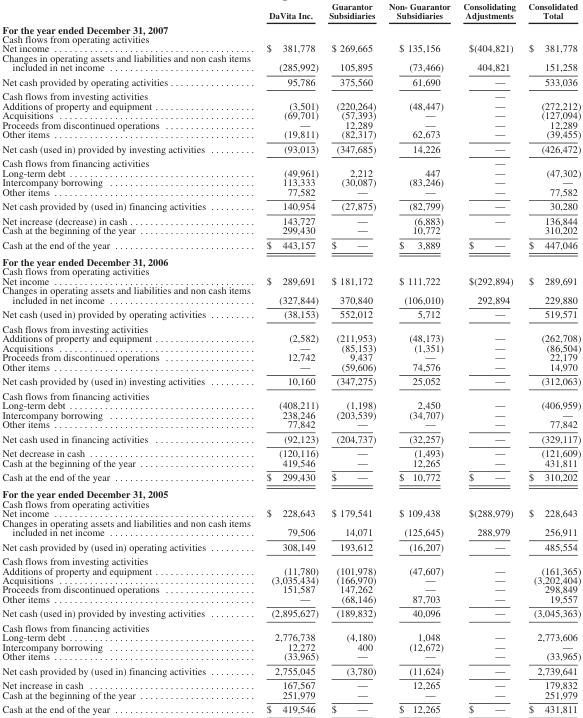table: (1, 0, 580, 714)
table column: (1, 0, 257, 714), (381, 0, 456, 714), (257, 0, 323, 714), (456, 0, 521, 714), (521, 0, 580, 714), (323, 0, 381, 714)
table column header: (1, 0, 580, 21)
table projected row header: (1, 252, 580, 266), (1, 485, 580, 498), (1, 21, 580, 33), (1, 321, 580, 333), (1, 387, 580, 399), (1, 553, 580, 565), (1, 620, 580, 632), (1, 33, 580, 43), (1, 266, 580, 275), (1, 498, 580, 507)
table row: (1, 52, 580, 74), (1, 0, 580, 21), (1, 285, 580, 306), (1, 517, 580, 538), (1, 469, 580, 485), (1, 198, 580, 213), (1, 237, 580, 252), (1, 306, 580, 321), (1, 430, 580, 445), (1, 538, 580, 553), (1, 605, 580, 620), (1, 74, 580, 88), (1, 141, 580, 155), (1, 252, 580, 266), (1, 373, 580, 387), (1, 663, 580, 677), (1, 485, 580, 498), (1, 701, 580, 714), (1, 21, 580, 33), (1, 88, 580, 100), (1, 129, 580, 141), (1, 155, 580, 167), (1, 186, 580, 198), (1, 213, 580, 225), (1, 225, 580, 237), (1, 321, 580, 333), (1, 361, 580, 373), (1, 387, 580, 399), (1, 418, 580, 430), (1, 445, 580, 457), (1, 457, 580, 469), (1, 553, 580, 565), (1, 593, 580, 605), (1, 620, 580, 632), (1, 651, 580, 663), (1, 677, 580, 689), (1, 689, 580, 701), (1, 33, 580, 43), (1, 100, 580, 110), (1, 119, 580, 129), (1, 167, 580, 177), (1, 275, 580, 285), (1, 351, 580, 361), (1, 399, 580, 409), (1, 507, 580, 517), (1, 574, 580, 584), (1, 641, 580, 651), (1, 43, 580, 52), (1, 110, 580, 119), (1, 177, 580, 186), (1, 266, 580, 275), (1, 333, 580, 342), (1, 342, 580, 351), (1, 409, 580, 418), (1, 498, 580, 507), (1, 565, 580, 574), (1, 584, 580, 593), (1, 632, 580, 641)
